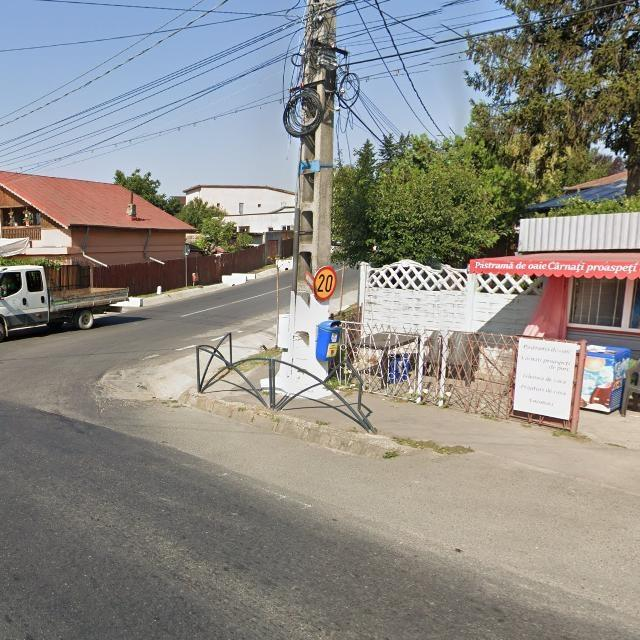forb_speed_over_20: (314, 266, 337, 301)
